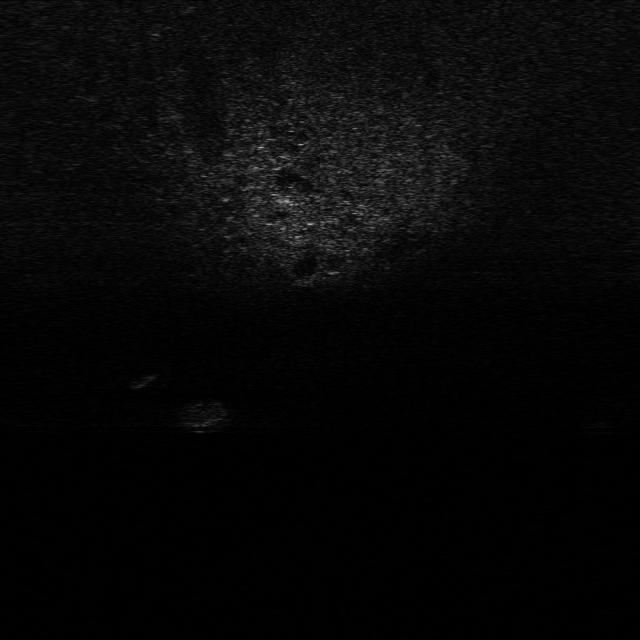circle cage: (180, 394, 242, 439)
cylinder: (123, 368, 166, 394)
